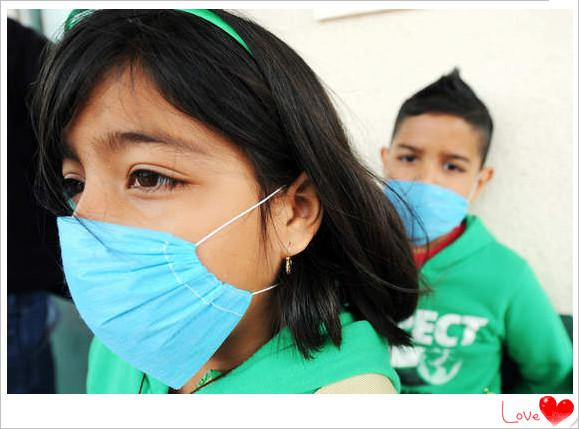OK: (55, 129, 298, 377)
WRONG: (380, 135, 479, 240)
